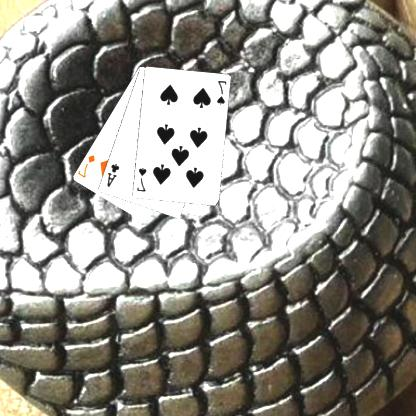7D: (77, 152, 98, 179)
7S: (136, 165, 149, 193), (216, 78, 229, 106)
AC: (106, 161, 122, 188)
